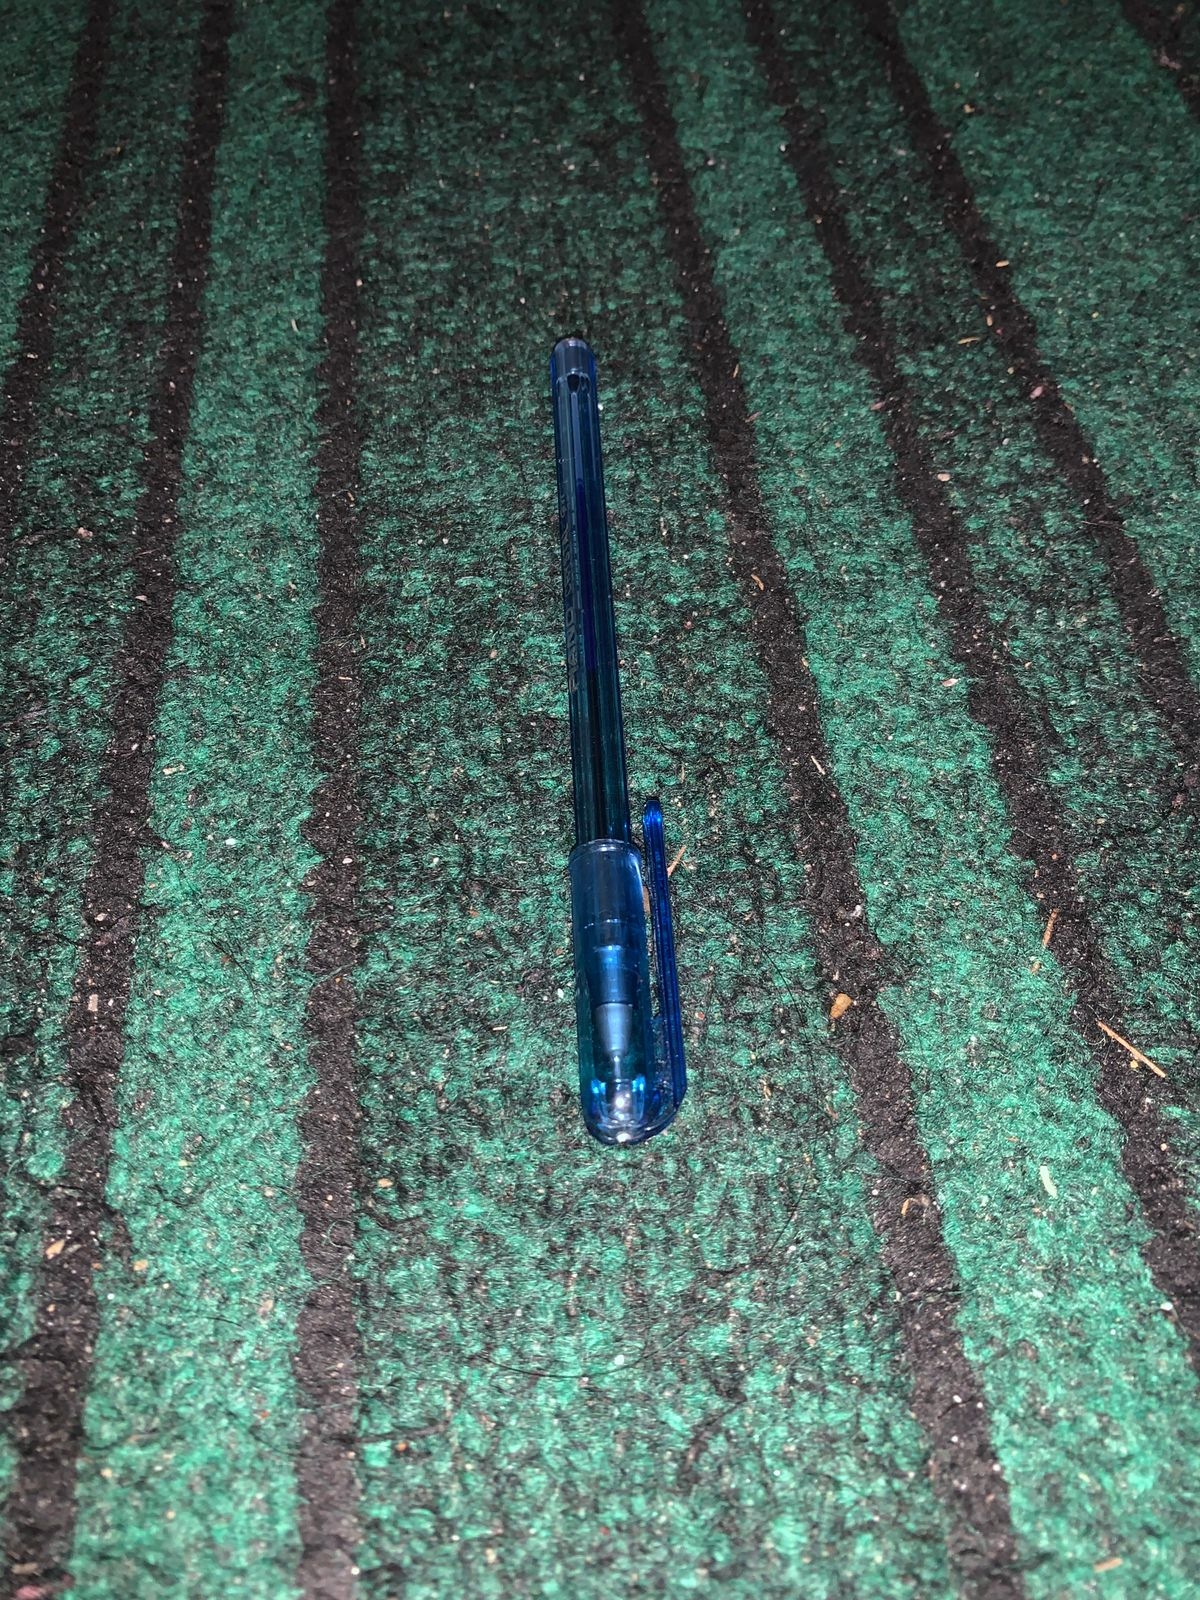pen: (309, 271, 887, 1232)
